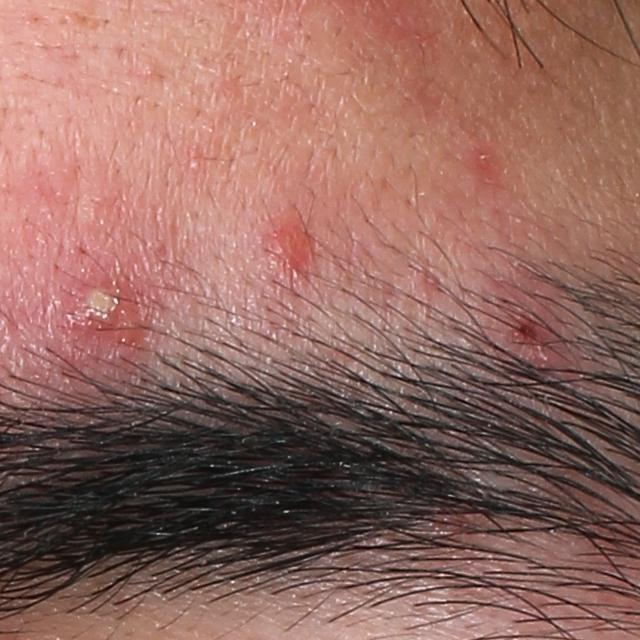papule: (507, 305, 550, 355), (271, 216, 309, 270)
pustule: (70, 271, 127, 333)
